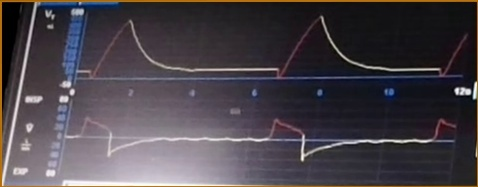Flow: (70, 111, 455, 176)
Leakage Volume: (82, 14, 469, 85)
